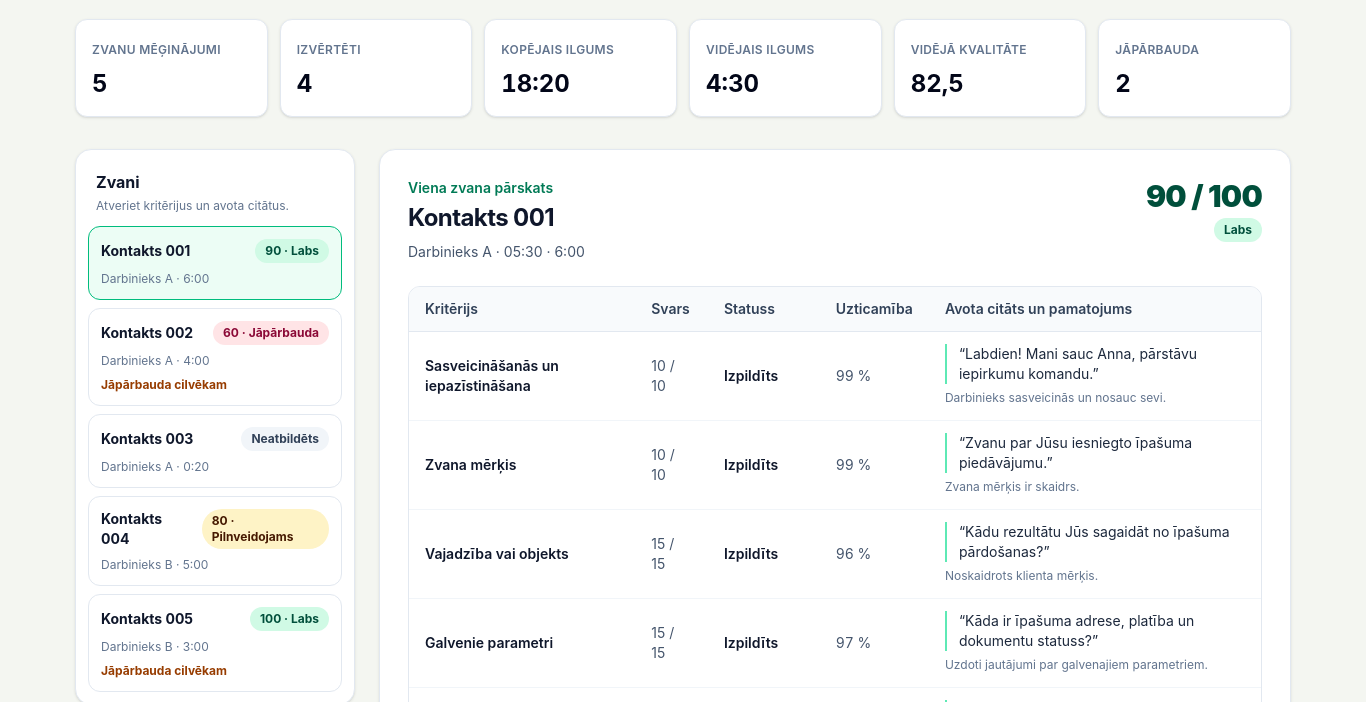
Test: CallsPage › drills into deterministic rubric evidence and review warnings
(page scrolled)
Click the button "Kontakts 002" at (215, 357), box [88, 308, 342, 406]
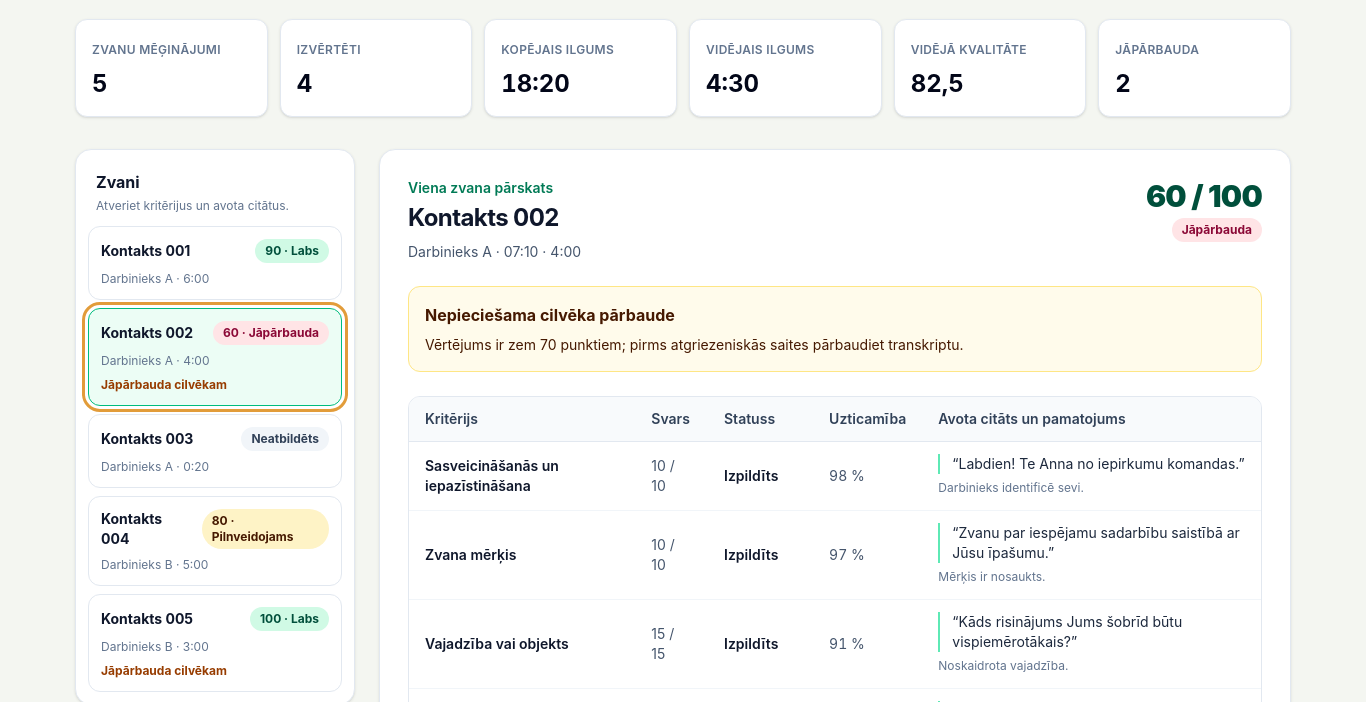
Now the heading "Kontakts 002" is shown, box [408, 202, 581, 234]
Now the text "60 / 100" is shown, box [1146, 178, 1262, 214]
Click the button "Kontakts 005" at (215, 643), box [88, 594, 342, 692]
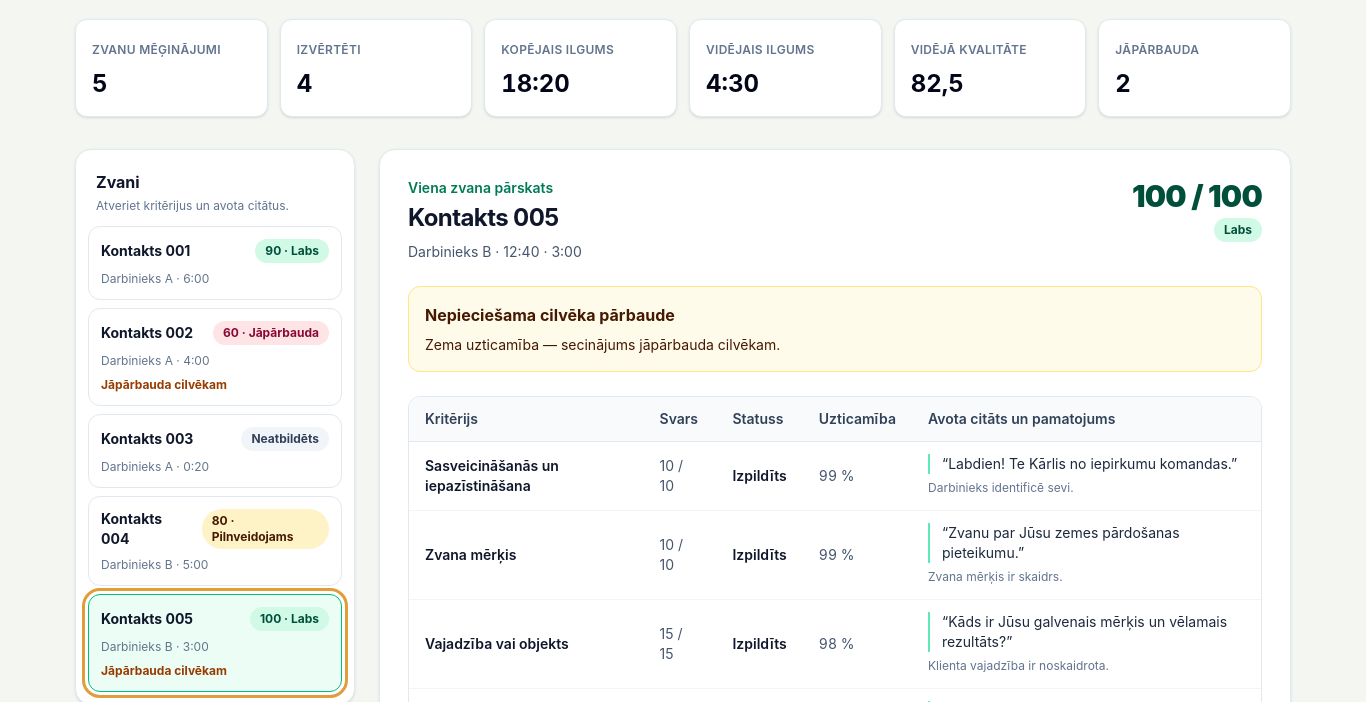
Now the text "100 / 100" is shown, box [1132, 178, 1262, 214]
Now the list item "Zema uzticamība — secinājums jāpārbauda cilvēkam." is shown, box [425, 336, 780, 353]
